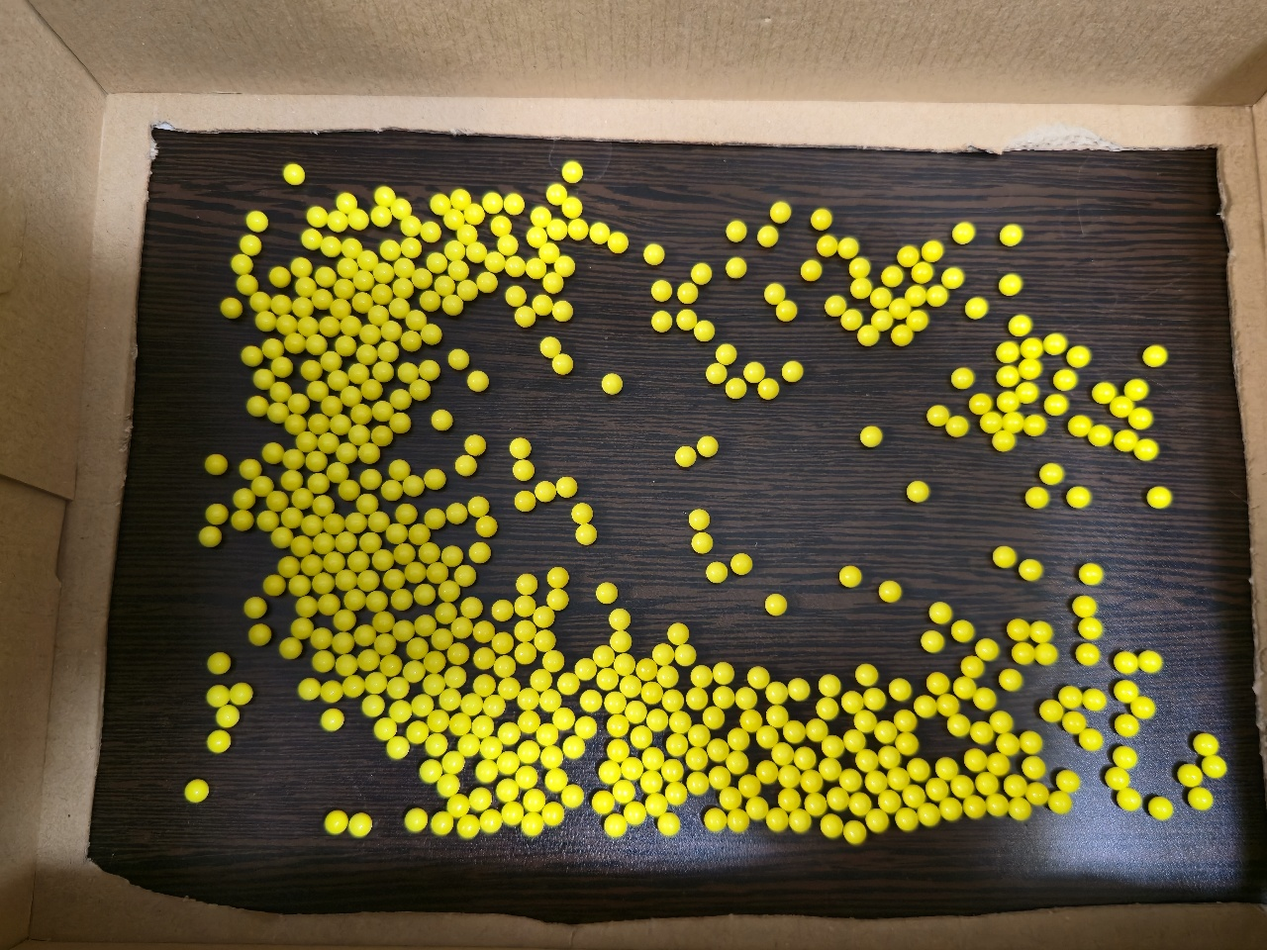yellow_bead: (612, 612, 622, 624), (605, 377, 614, 390), (709, 366, 719, 377), (710, 566, 719, 578), (646, 246, 658, 255), (678, 449, 688, 459), (396, 745, 406, 754), (559, 481, 568, 491), (513, 441, 522, 451), (471, 374, 481, 383), (785, 365, 795, 374), (719, 347, 729, 356), (555, 304, 566, 312), (692, 513, 701, 522), (516, 463, 525, 472), (543, 340, 552, 349), (613, 634, 623, 642), (701, 440, 711, 448), (555, 357, 565, 365), (566, 164, 576, 172), (600, 586, 609, 594), (695, 536, 704, 544), (747, 365, 756, 373), (654, 283, 663, 291), (761, 229, 770, 237), (486, 195, 495, 203), (537, 485, 545, 493), (459, 458, 467, 466), (509, 289, 517, 297), (550, 186, 558, 194), (550, 594, 559, 601), (579, 531, 588, 538), (452, 352, 461, 359), (519, 310, 528, 317), (767, 288, 776, 295), (461, 283, 470, 290), (729, 261, 738, 268), (596, 226, 603, 235), (578, 666, 586, 673), (768, 598, 776, 605), (520, 578, 528, 585), (776, 204, 783, 212), (399, 201, 406, 209), (508, 196, 516, 203), (770, 690, 779, 696), (822, 682, 831, 688), (682, 313, 688, 322), (583, 698, 593, 703), (910, 488, 920, 493), (718, 668, 725, 675), (547, 276, 554, 283), (483, 275, 490, 282), (512, 259, 519, 266), (380, 189, 387, 196), (671, 628, 679, 634), (257, 373, 265, 379), (656, 316, 664, 322), (489, 255, 497, 261), (470, 245, 478, 251), (535, 209, 541, 217), (306, 688, 311, 697), (453, 507, 459, 514), (846, 314, 853, 320), (447, 299, 454, 305), (530, 262, 537, 268), (451, 243, 457, 250), (312, 210, 319, 216), (699, 266, 704, 274), (295, 261, 303, 266), (502, 240, 510, 245), (369, 702, 375, 708), (793, 687, 802, 691), (655, 652, 664, 656), (520, 600, 526, 606), (384, 345, 390, 351), (401, 261, 407, 267), (845, 240, 851, 246), (287, 170, 296, 174), (681, 651, 688, 656), (427, 363, 432, 370), (700, 325, 707, 330), (395, 302, 402, 307), (428, 225, 433, 232), (334, 214, 339, 221), (561, 680, 569, 684), (695, 673, 703, 677), (431, 258, 439, 262), (730, 228, 738, 232), (491, 706, 497, 711), (474, 502, 480, 507), (355, 428, 360, 434), (437, 415, 442, 421), (404, 367, 410, 372), (354, 367, 360, 372), (380, 365, 385, 371), (537, 299, 543, 304), (440, 279, 445, 285), (420, 271, 425, 277), (387, 242, 392, 248), (531, 232, 537, 237), (597, 654, 604, 658), (411, 479, 415, 486), (329, 354, 333, 361), (453, 265, 460, 269), (560, 262, 567, 266), (623, 686, 632, 689), (432, 473, 437, 478), (268, 342, 273, 347), (413, 314, 418, 319), (376, 309, 381, 314), (665, 823, 671, 827), (650, 719, 658, 722), (544, 699, 552, 702), (498, 607, 504, 611), (448, 552, 454, 556), (475, 548, 481, 552), (389, 325, 393, 331), (833, 299, 837, 305), (400, 282, 406, 286), (328, 239, 332, 245), (552, 226, 558, 230), (569, 746, 576, 749), (619, 662, 626, 665), (357, 822, 361, 827), (414, 817, 418, 822), (632, 813, 636, 818), (560, 717, 565, 721), (539, 614, 544, 618), (343, 448, 348, 452), (275, 407, 279, 412), (296, 397, 300, 402), (398, 394, 402, 399), (879, 317, 884, 321), (248, 238, 252, 243), (408, 223, 413, 227), (343, 200, 348, 204), (536, 679, 542, 682), (662, 674, 668, 677), (577, 511, 583, 514), (867, 434, 873, 437), (428, 330, 434, 333), (613, 824, 617, 828), (570, 796, 574, 800), (607, 771, 611, 775), (330, 719, 334, 723), (396, 686, 400, 690), (462, 572, 466, 576), (408, 243, 412, 247), (355, 216, 359, 220), (652, 805, 657, 808), (548, 756, 553, 759), (525, 750, 530, 753), (611, 702, 616, 705), (470, 441, 475, 444), (380, 405, 383, 410), (366, 253, 369, 258), (545, 249, 550, 252), (731, 386, 738, 388), (797, 820, 801, 823), (506, 789, 510, 792), (484, 770, 488, 773), (451, 761, 455, 764), (479, 726, 483, 729), (743, 697, 747, 700), (603, 678, 609, 680), (452, 675, 456, 678), (412, 669, 416, 672), (469, 605, 473, 608), (887, 589, 891, 592), (344, 539, 348, 542), (394, 529, 398, 532), (353, 519, 357, 522), (377, 518, 380, 522), (389, 487, 393, 490), (317, 480, 321, 483), (397, 466, 401, 469), (327, 439, 331, 442), (348, 393, 352, 396), (314, 341, 318, 344), (649, 758, 654, 760), (543, 734, 548, 736), (582, 726, 587, 728), (632, 711, 637, 713), (539, 638, 544, 640), (1009, 232, 1014, 234), (479, 799, 482, 802), (435, 745, 438, 748), (851, 739, 854, 742), (384, 728, 387, 731), (755, 674, 758, 677), (522, 628, 525, 631), (402, 627, 405, 630), (459, 624, 462, 627), (367, 577, 370, 580), (368, 538, 371, 541), (365, 501, 368, 504), (369, 475, 372, 478), (336, 376, 339, 379), (361, 276, 364, 279), (381, 268, 384, 271), (465, 231, 468, 234), (488, 747, 492, 749), (638, 737, 642, 739), (677, 721, 681, 723), (720, 697, 724, 699), (863, 674, 867, 676), (446, 588, 450, 590), (433, 516, 437, 518), (364, 351, 368, 353), (684, 291, 688, 293), (380, 212, 382, 216), (713, 819, 716, 821), (532, 801, 535, 803), (506, 762, 509, 764), (887, 756, 890, 758), (802, 756, 804, 759), (714, 749, 717, 751), (773, 715, 776, 717), (399, 711, 402, 713), (825, 708, 828, 710), (421, 705, 424, 707), (448, 699, 451, 701), (433, 684, 436, 686), (374, 682, 377, 684), (502, 666, 505, 668), (444, 611, 447, 613), (738, 561, 741, 563), (280, 535, 282, 538), (208, 534, 211, 536), (336, 469, 339, 471), (339, 422, 342, 424), (255, 404, 258, 406), (418, 387, 421, 389), (960, 377, 963, 379), (249, 351, 251, 354), (343, 341, 345, 344), (264, 319, 267, 321), (324, 273, 326, 276), (241, 260, 243, 263), (309, 236, 312, 238), (254, 218, 257, 220), (472, 211, 475, 213), (441, 823, 443, 825), (673, 794, 677, 795), (447, 785, 449, 787), (427, 772, 429, 774), (827, 768, 829, 770), (468, 744, 470, 746), (814, 729, 816, 731), (227, 715, 229, 717), (526, 699, 530, 700), (216, 696, 218, 698), (343, 617, 345, 619), (344, 578, 346, 580), (427, 550, 429, 552), (323, 540, 325, 542), (322, 503, 324, 505), (292, 456, 294, 458), (280, 363, 282, 365), (828, 305, 832, 306), (301, 304, 303, 306), (429, 297, 431, 299), (696, 734, 699, 735), (470, 704, 473, 705), (670, 700, 673, 701), (693, 698, 696, 699), (551, 660, 554, 661), (931, 641, 934, 642), (937, 612, 940, 613), (424, 593, 427, 594), (393, 577, 396, 578), (243, 495, 244, 498), (784, 308, 787, 309), (810, 268, 813, 269), (717, 778, 719, 779), (523, 778, 525, 779), (240, 694, 242, 695), (384, 643, 386, 644), (342, 641, 344, 642), (375, 600, 377, 601), (400, 599, 402, 600), (298, 584, 300, 585), (322, 582, 324, 583), (357, 559, 359, 560), (381, 558, 383, 559), (312, 522, 313, 524), (405, 512, 407, 513), (291, 477, 293, 478), (367, 450, 369, 451), (863, 437, 865, 438), (399, 422, 401, 423), (359, 412, 361, 413), (328, 324, 330, 325), (345, 265, 347, 266), (258, 220, 260, 221), (834, 799, 835, 800), (695, 784, 696, 785), (506, 734, 507, 735), (863, 721, 864, 722), (924, 706, 925, 707), (873, 700, 874, 701), (346, 664, 347, 665), (483, 657, 484, 658), (522, 652, 523, 653), (985, 649, 986, 650), (353, 598, 354, 599), (556, 577, 557, 578), (848, 576, 849, 577), (522, 500, 523, 501), (261, 484, 262, 485), (249, 467, 250, 468), (307, 439, 308, 440), (936, 414, 937, 415), (865, 333, 866, 334), (368, 332, 369, 333), (349, 324, 350, 325), (231, 305, 232, 306), (280, 303, 281, 304), (259, 300, 260, 301), (322, 297, 323, 298), (689, 290, 690, 291), (858, 286, 859, 287), (954, 276, 955, 277), (343, 264, 344, 265), (863, 262, 864, 263), (958, 229, 959, 230), (577, 227, 578, 228), (571, 205, 572, 206), (439, 202, 440, 203)
